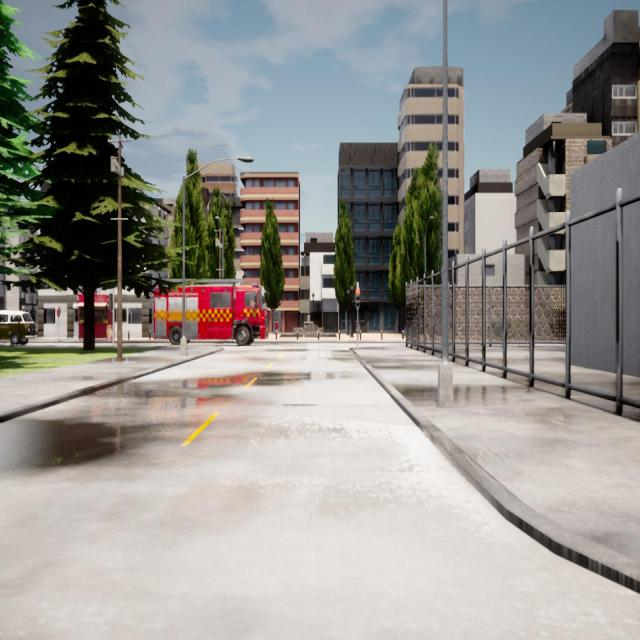Traffic_Signs: (58, 306, 61, 316)
Vehicle: (148, 279, 268, 345), (0, 311, 34, 344)
traffic_light: (108, 294, 113, 311), (356, 289, 360, 306)
